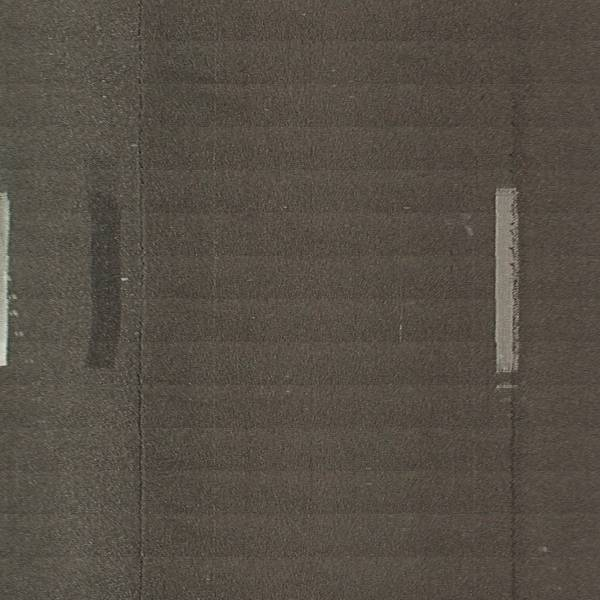road_damage: (131, 6, 152, 600)
